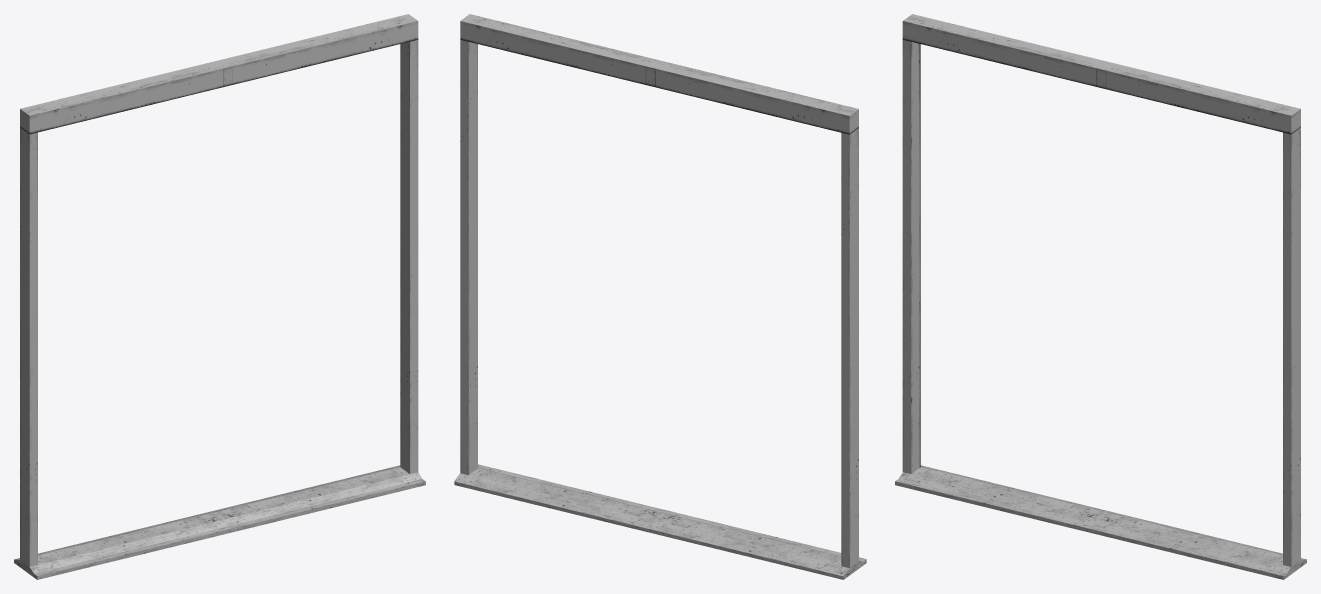
File: glass_door_double_frame.fbx
3 renders of one model, left to right at view 1: azimuth 30°, elevation 25°; view 2: azimuth 150°, elevation 25°; view 3: azimuth 330°, elevation 25°, orthographic.
Visible parts, largest first — view 1: glass_door_double_frame; view 2: glass_door_double_frame; view 3: glass_door_double_frame.
Part boxes in pixels (left/top/right/bottom): glass_door_double_frame: left=14, top=14, right=425, bottom=579; glass_door_double_frame: left=454, top=14, right=866, bottom=579; glass_door_double_frame: left=895, top=14, right=1306, bottom=579.
Bounding box in the file's own units: 1.88 × 2.12 × 0.1949.
